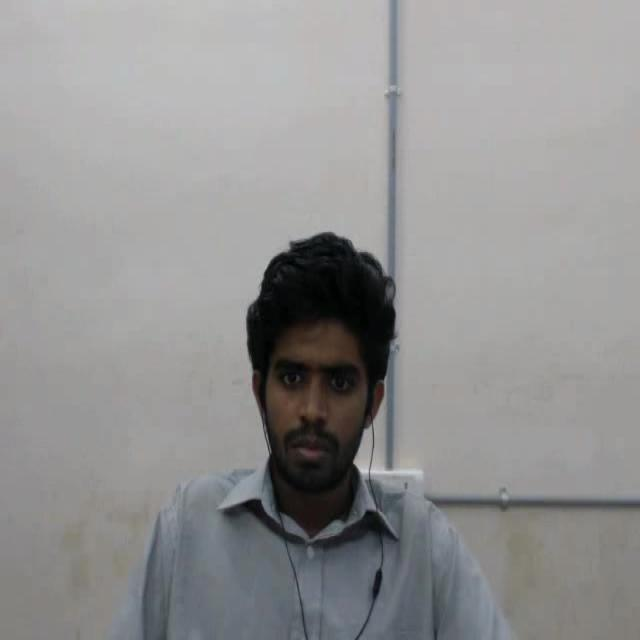Engaged: (229, 200, 413, 508)
